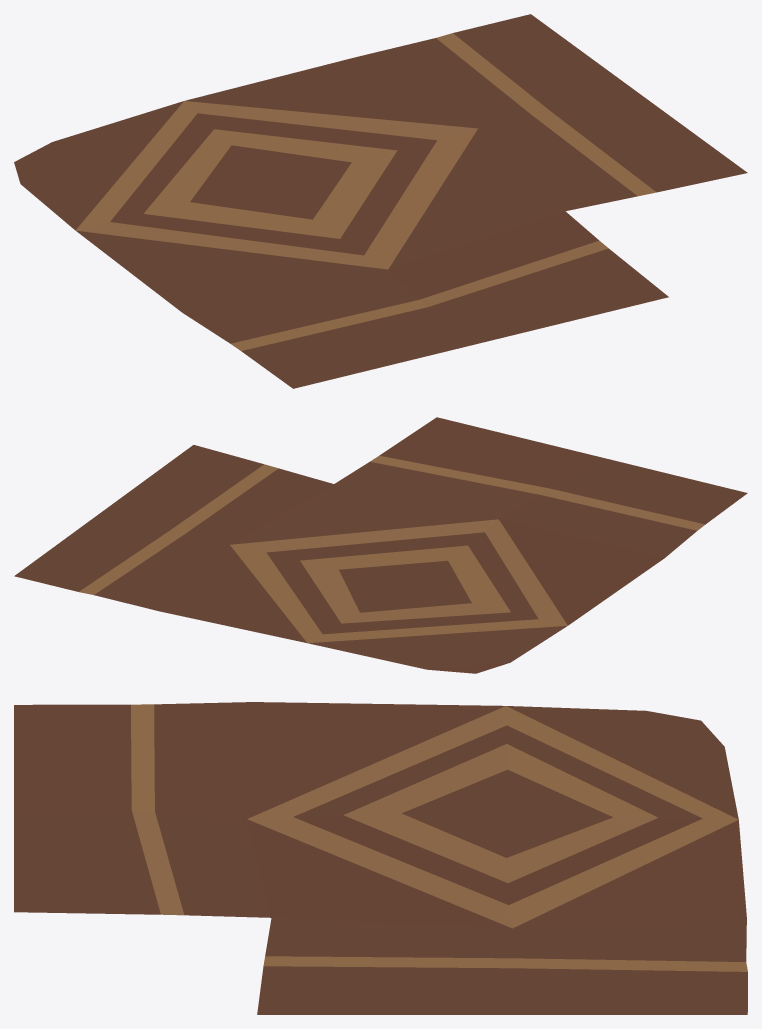
Rendered from Rug_2_Way.fbx.
3 views of the same model, one above another, from view 1: azimuth 30°, elevation 25°; view 2: azimuth 150°, elevation 25°; view 3: azimuth 270°, elevation 25° (orthographic). The views are drawn at different scales.
Visible parts, largest first — view 1: Rug_2_Way; view 2: Rug_2_Way; view 3: Rug_2_Way.
Boxes of the visible parts, <box> form: Rug_2_Way: <box>14,14,747,388</box>; Rug_2_Way: <box>14,417,747,673</box>; Rug_2_Way: <box>14,702,747,1014</box>.
Bounding box in the file's own units: 75.81 × 0.7816 × 75.13.
